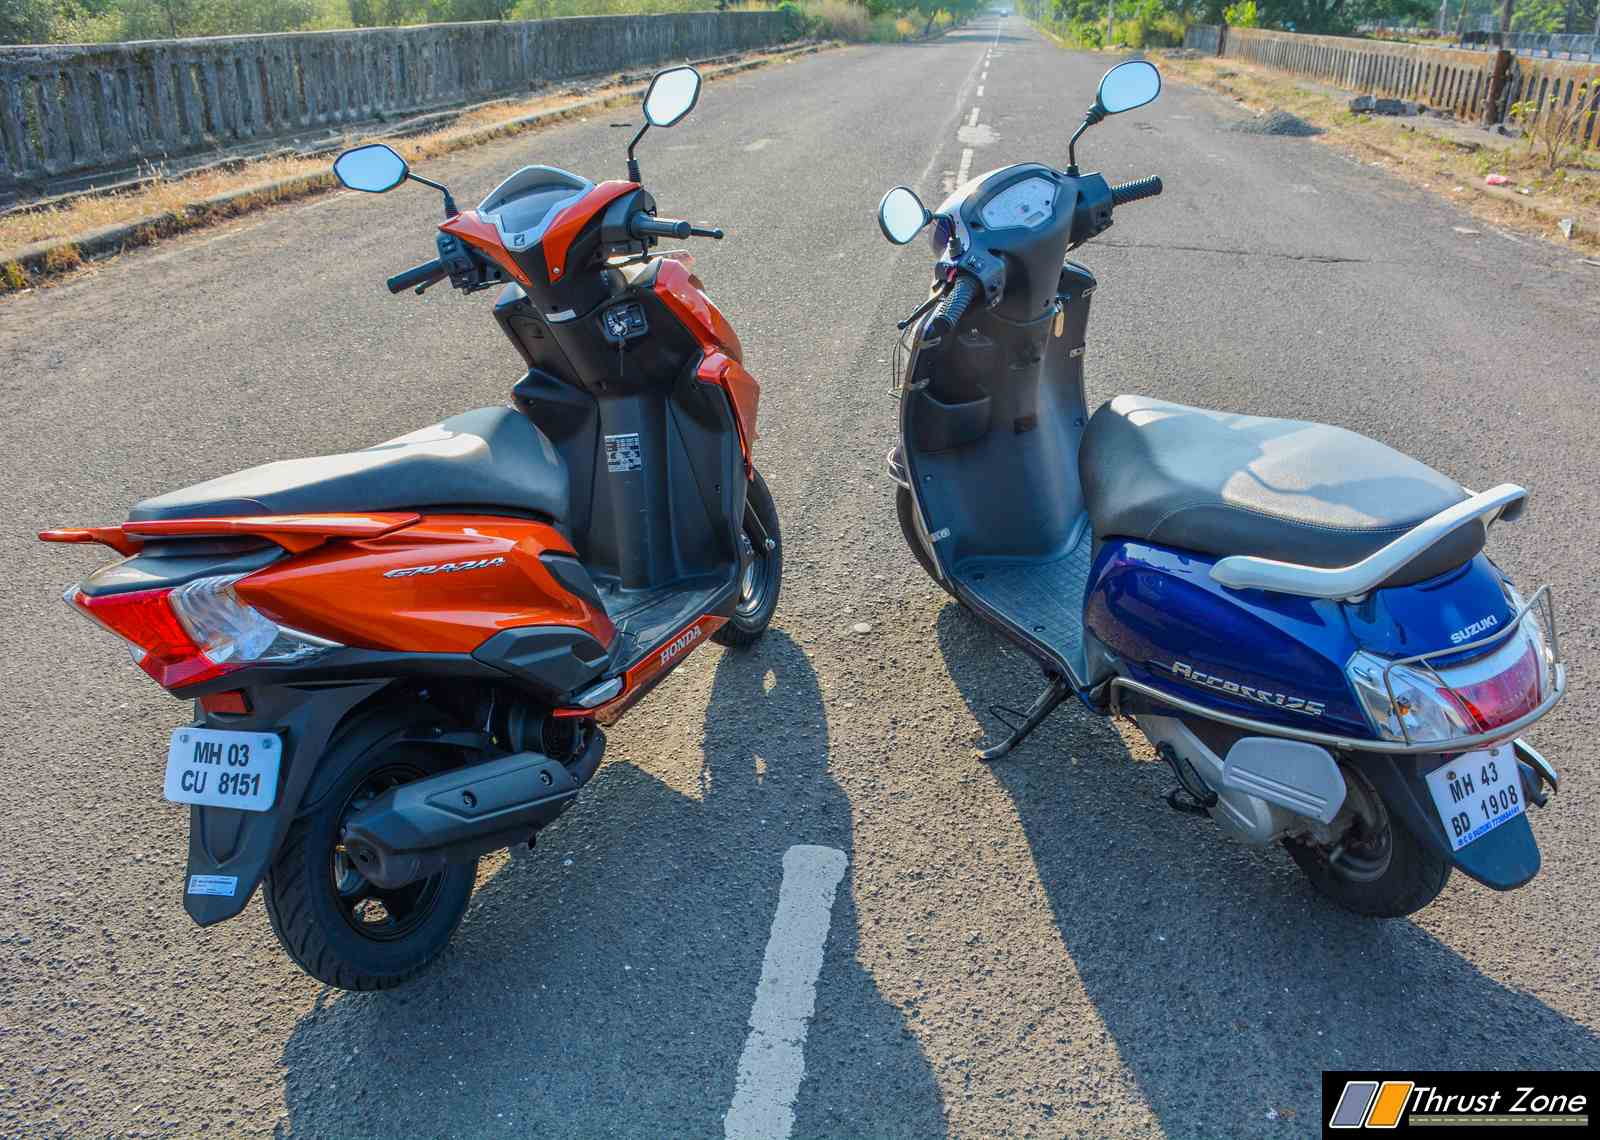bike: (44, 64, 792, 993), (876, 57, 1564, 923)
